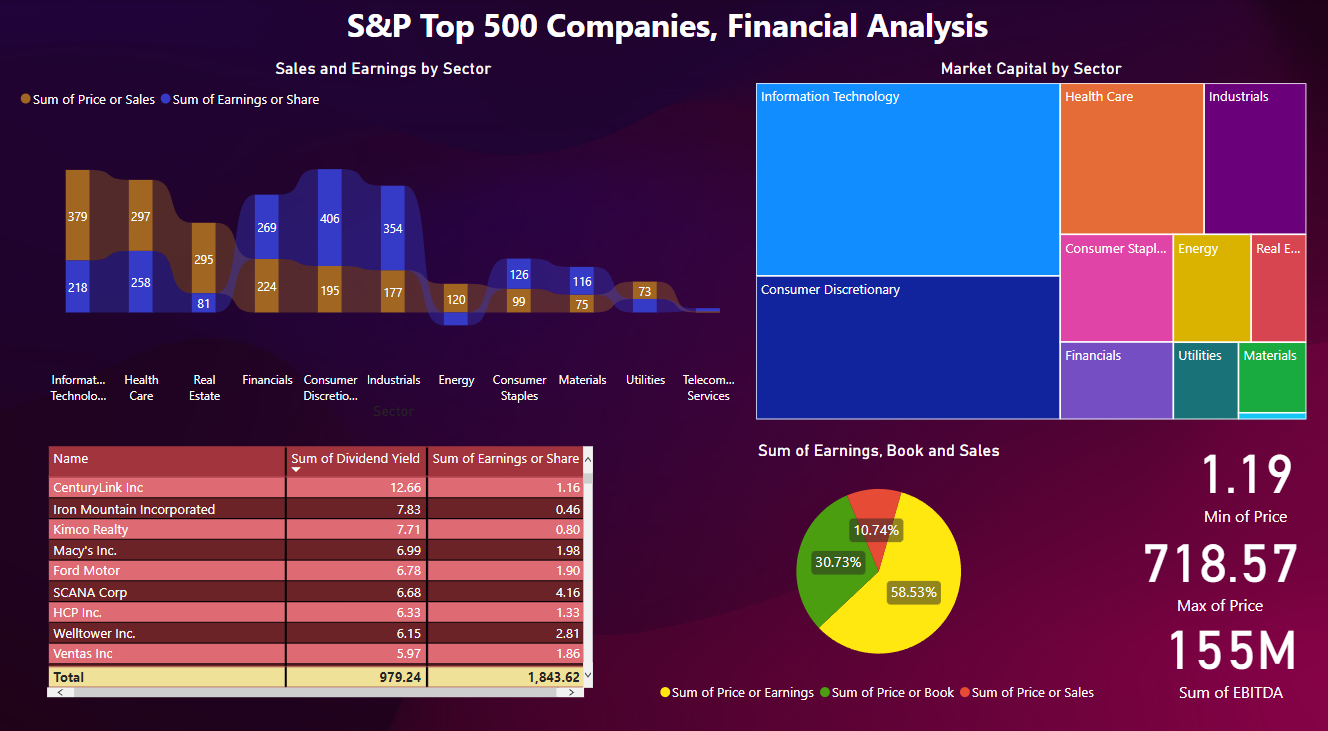

This screenshot's page, from the dashboard's own definition file:
{"tool":"powerbi","page":{"name":"Page 1","canvas":[1350,745],"ordinal":0},"visuals":[{"type":"ribbonChart","title":"Sales and Earnings by Sector","fields":{"Category":["S&P 500 Companies.Sector"],"Y":["Sum(S&P 500 Companies.Price or Sales)","Sum(S&P 500 Companies.Earnings or Share)"]},"box":[20.1,60.3,745,370.6],"z":0},{"type":"treemap","title":"Market Capital by Sector","fields":{"Group":["S&P 500 Companies.Sector"],"Values":["Sum(S&P 500 Companies.Market Cap)"]},"box":[765.1,60.3,566.6,370.6],"z":1000},{"type":"tableEx","fields":{"Values":["S&P 500 Companies.Name","Sum(S&P 500 Companies.Dividend Yield)","Sum(S&P 500 Companies.Earnings or Share)"]},"box":[48.1,449,561.6,263.1],"z":2000},{"type":"textbox","box":[20.4,0,1311.5,59.8],"z":3000},{"type":"card","fields":{"Values":["Min(S&P 500 Companies.Price)"]},"box":[1204.1,431.3,122.7,108.8],"z":4000},{"type":"card","fields":{"Values":["Max(S&P 500 Companies.Price)"]},"box":[1152.3,517.3,174.6,116.4],"z":5000},{"type":"card","fields":{"Values":["Sum(S&P 500 Companies.EBITDA)"]},"box":[1175.1,604.6,151.8,117.6],"z":6000},{"type":"pieChart","title":"Sum of Earnings, Book and Sales","fields":{"Y":["Sum(S&P 500 Companies.Price or Earnings)","Sum(S&P 500 Companies.Price or Book)","Sum(S&P 500 Companies.Price or Sales)"]},"box":[635.7,447.3,516.4,273.9],"z":7000}]}

Visuals, with their boxes in screenshot pixels (x1, y1, x2, y2), scaled from the page's 1350x745 canvas onto the 1328x731 screenshot:
"Sales and Earnings by Sector" ribbonChart: 20 59 753 423
"Market Capital by Sector" treemap: 753 59 1310 423
tableEx - S&P 500 Companies.Name x Sum(S&P 500 Companies.Dividend Yield): 47 441 600 699
textbox: 20 0 1310 59
card - Min(S&P 500 Companies.Price): 1184 423 1305 530
card - Max(S&P 500 Companies.Price): 1134 508 1305 622
card - Sum(S&P 500 Companies.EBITDA): 1156 593 1305 709
"Sum of Earnings, Book and Sales" pieChart: 625 439 1133 708
